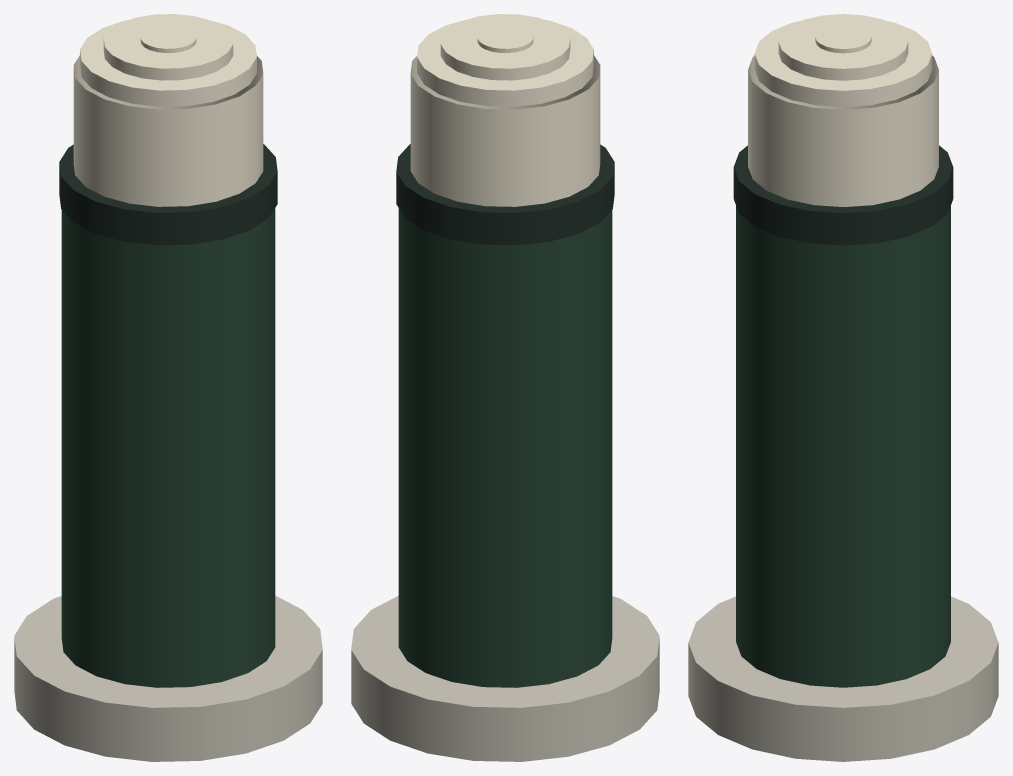
Rendered from bollard.glb.
3 views of the same model, side by side, from view 1: azimuth 30°, elevation 25°; view 2: azimuth 150°, elevation 25°; view 3: azimuth 270°, elevation 25° (orthographic).
Visible parts, largest first — view 1: bollard-body, bollard-diffuser, bollard-collar, bollard-band; view 2: bollard-body, bollard-diffuser, bollard-collar, bollard-band; view 3: bollard-body, bollard-diffuser, bollard-collar, bollard-band.
Part boxes in pixels (x1,y1,x2,y2): bollard-body: (61, 208, 275, 687); bollard-diffuser: (73, 14, 263, 206); bollard-collar: (14, 595, 322, 761); bollard-band: (59, 144, 277, 245); bollard-body: (398, 208, 612, 687); bollard-diffuser: (410, 14, 600, 206); bollard-collar: (351, 595, 659, 761); bollard-band: (396, 144, 614, 245); bollard-body: (736, 206, 950, 687); bollard-diffuser: (748, 14, 938, 206); bollard-collar: (688, 596, 998, 761); bollard-band: (733, 145, 953, 245).
Bounding box in the file's own units: 0.26 × 0.6099 × 0.26.
